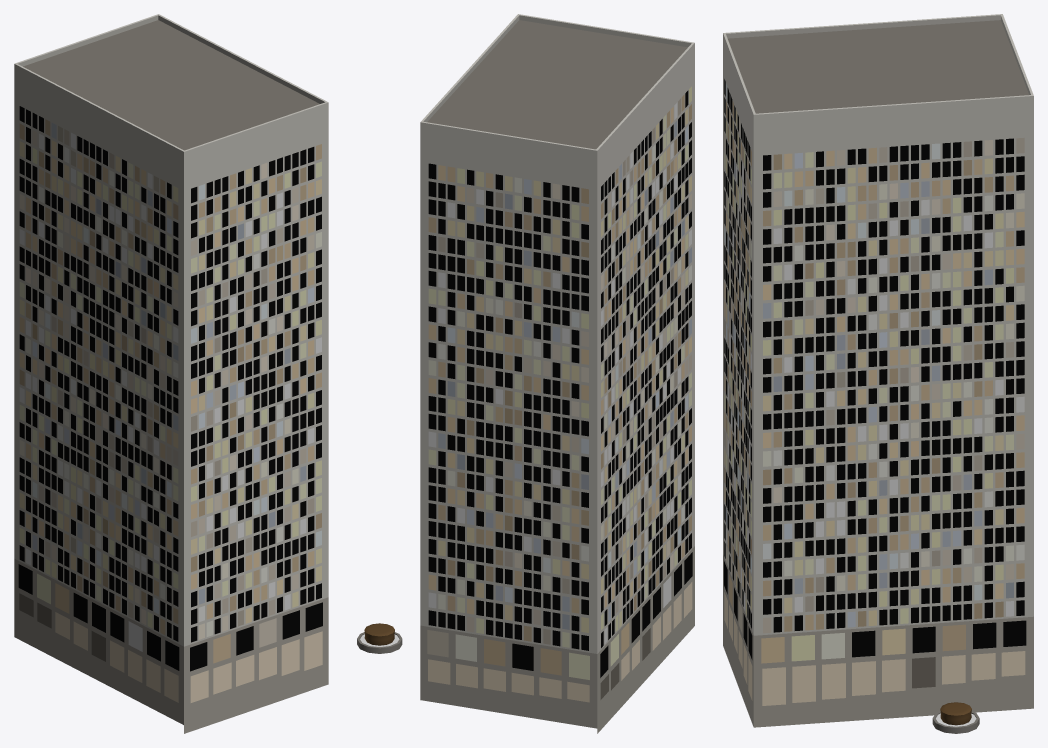
Rendered from grandHyatt_lod1.glb.
3 renders of one model, left to right at view 1: azimuth 30°, elevation 25°; view 2: azimuth 150°, elevation 25°; view 3: azimuth 270°, elevation 25°, orthographic. The views are drawn at different scales.
Parts seen in each view (by area): view 1: L1_win, L1_concrete, L1_roof, L1_shop; view 2: L1_win, L1_concrete, L1_roof, L1_shop, L1_metal; view 3: L1_win, L1_concrete, L1_roof, L1_shop, L1_metal.
Part boxes in pixels (x1,y1,x2,y2): L1_win: (18, 106, 322, 671); L1_concrete: (14, 14, 328, 733); L1_roof: (23, 20, 319, 150); L1_shop: (19, 593, 322, 702); L1_win: (427, 86, 692, 679); L1_concrete: (420, 14, 694, 733); L1_roof: (427, 20, 687, 149); L1_shop: (428, 582, 692, 702); L1_metal: (364, 623, 394, 645); L1_win: (724, 79, 1026, 663); L1_concrete: (723, 14, 1033, 727); L1_roof: (728, 20, 1028, 113); L1_shop: (724, 592, 1025, 705); L1_metal: (940, 702, 971, 725).
Bounding box in the file's own units: 44.9 × 97.72 × 44.94.
